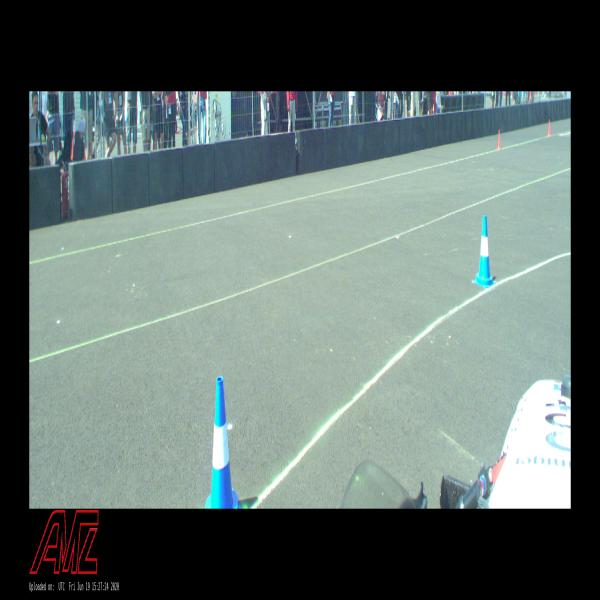blue_cone: (205, 376, 242, 509), (474, 216, 496, 288)
unknown_cone: (496, 130, 502, 149), (547, 120, 551, 136)
